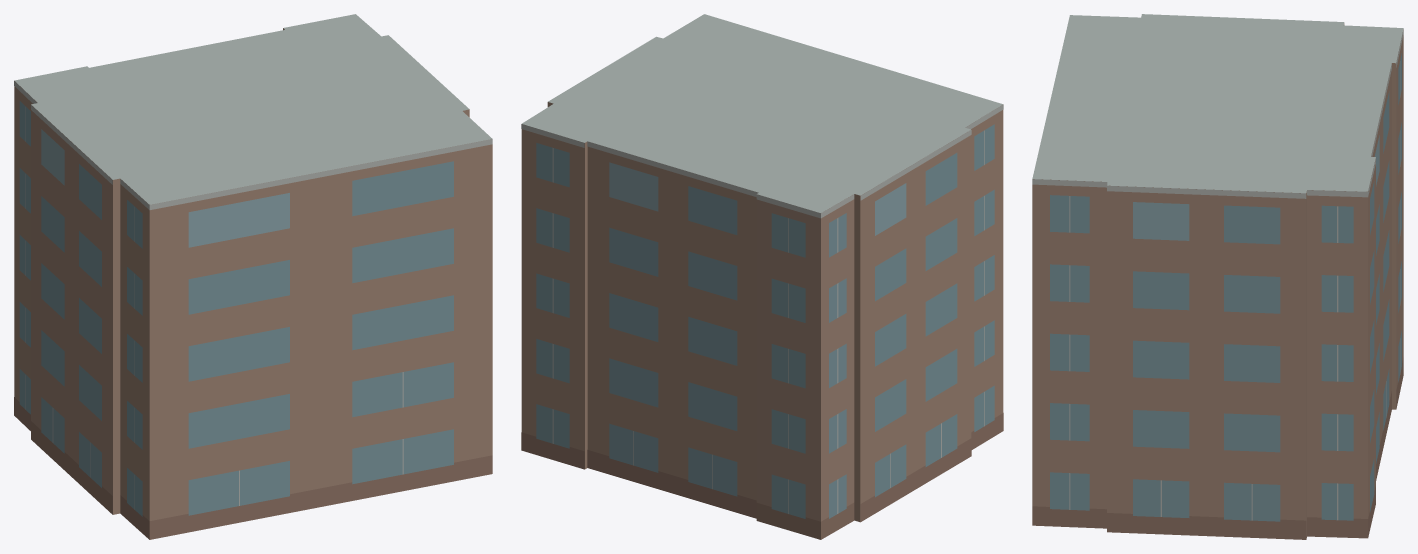
Rendered from survey-upis-32767982.glb.
3 renders of one model, left to right at view 1: azimuth 30°, elevation 25°; view 2: azimuth 150°, elevation 25°; view 3: azimuth 270°, elevation 25°, orthographic. The views are drawn at different scales.
Parts seen in each view (by area): view 1: survey-upis-32767982.tmp; view 2: survey-upis-32767982.tmp; view 3: survey-upis-32767982.tmp.
Boxes of the visible parts, left/top/right/bottom form: survey-upis-32767982.tmp: left=14, top=14, right=492, bottom=539; survey-upis-32767982.tmp: left=521, top=14, right=1003, bottom=539; survey-upis-32767982.tmp: left=1032, top=14, right=1403, bottom=539.
Bounding box in the file's own units: 16.93 × 15.25 × 14.82.
